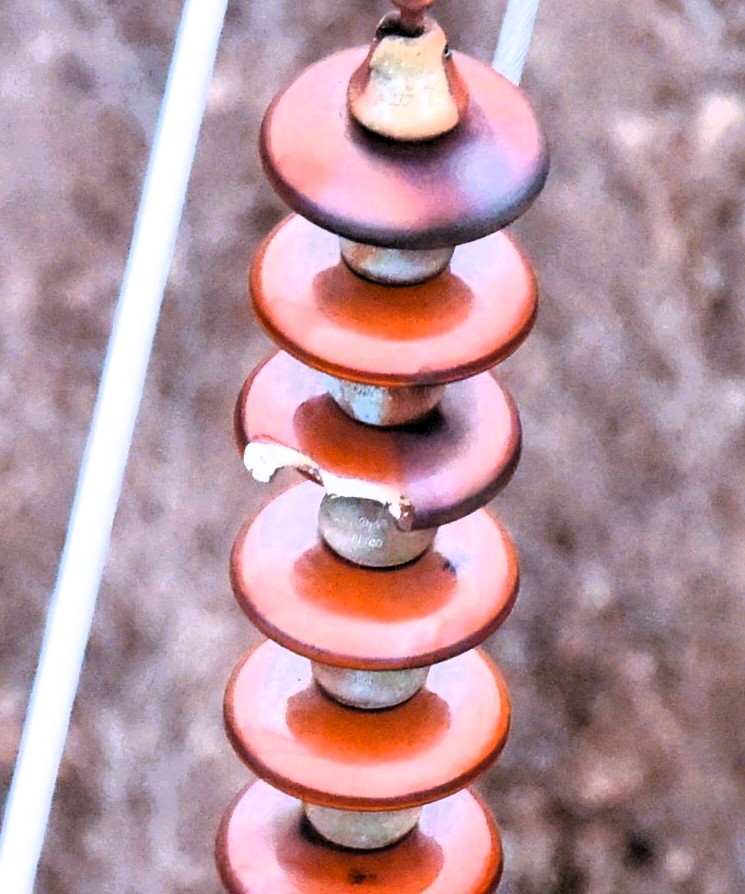insulator breakage: (225, 358, 527, 534)
